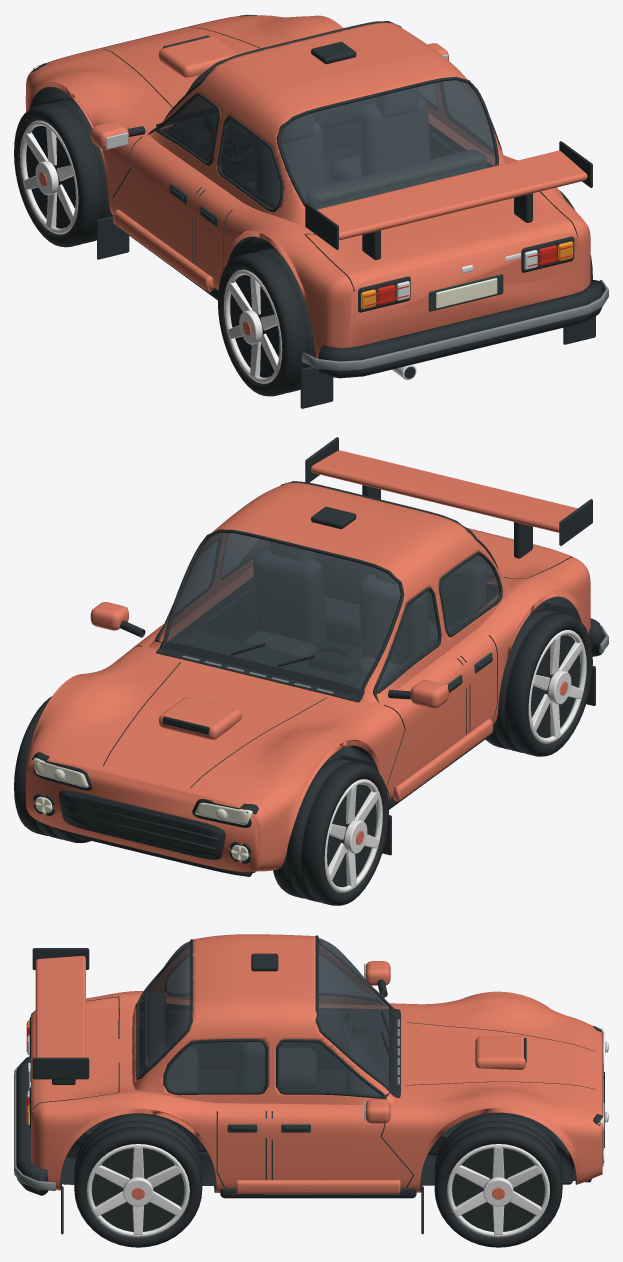
File: kumo.fbx
The picture shows the model from 3 angles, top to bottom: view 1: azimuth 30°, elevation 25°; view 2: azimuth 150°, elevation 25°; view 3: azimuth 270°, elevation 25°; orthographic projection. The views are drawn at different scales.
Visible parts, largest first — view 1: Body, Wheel_RL_Mesh, Wheel_FL_Mesh; view 2: Body, Wheel_FL_Mesh, Wheel_RL_Mesh, Wheel_FR_Mesh; view 3: Body, Wheel_FR_Mesh, Wheel_RR_Mesh.
Boxes of the visible parts, x1,y1,x2,y2 form: Body: (25,14,608,408); Wheel_RL_Mesh: (218,247,316,396); Wheel_FL_Mesh: (14,97,113,247); Body: (25,437,608,876); Wheel_FL_Mesh: (273,756,388,905); Wheel_RL_Mesh: (485,607,592,756); Wheel_FR_Mesh: (14,696,90,842); Body: (14,934,608,1234); Wheel_FR_Mesh: (434,1113,562,1247); Wheel_RR_Mesh: (74,1113,202,1247).
Bounding box in the file's own units: 239 × 166 × 400.
